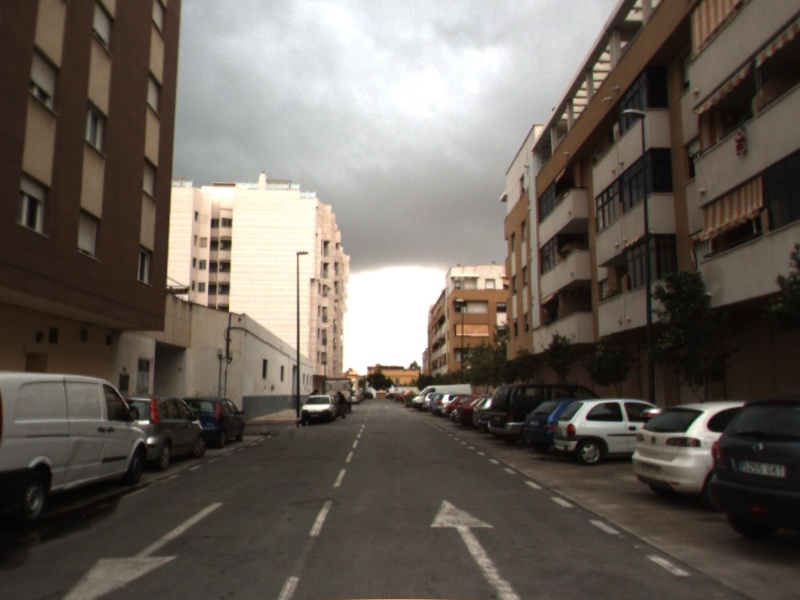STRAIGHT: (428, 497, 523, 600)
